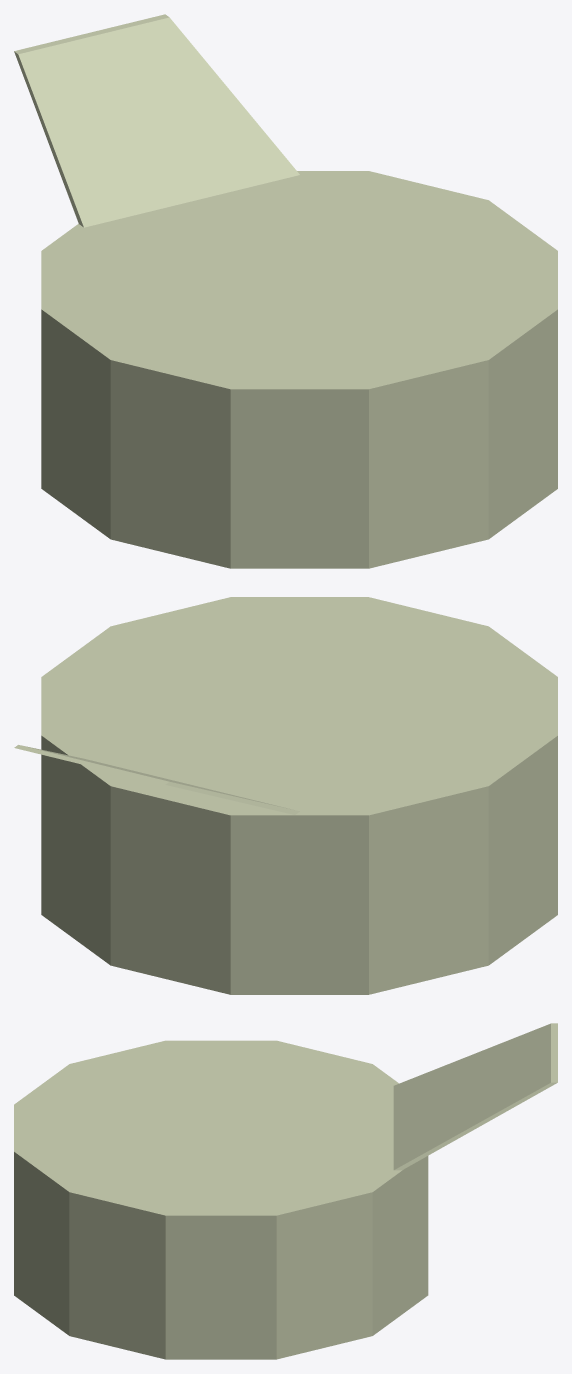
File: octans_androgynous_docking_port_s0p5_1_collider.obj
The picture shows the model from 3 angles, top to bottom: view 1: azimuth 30°, elevation 25°; view 2: azimuth 150°, elevation 25°; view 3: azimuth 270°, elevation 25°; orthographic projection. The views are drawn at different scales.
Visible parts, largest first — view 1: coll; view 2: coll; view 3: coll.
Boxes of the visible parts, x1,y1,x2,y2 form: coll: (14, 14, 557, 568); coll: (14, 597, 557, 994); coll: (14, 1023, 557, 1359).
Bounding box in the file's own units: 0.75 × 0.4375 × 0.985.
